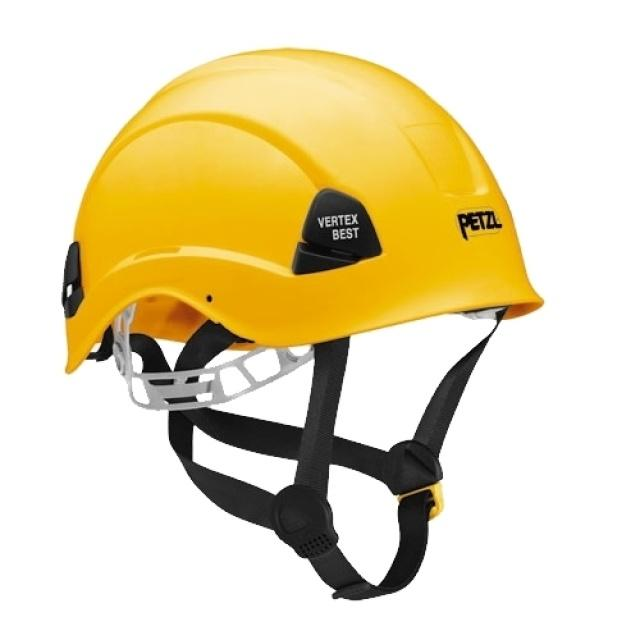helmet: (49, 48, 552, 517)
